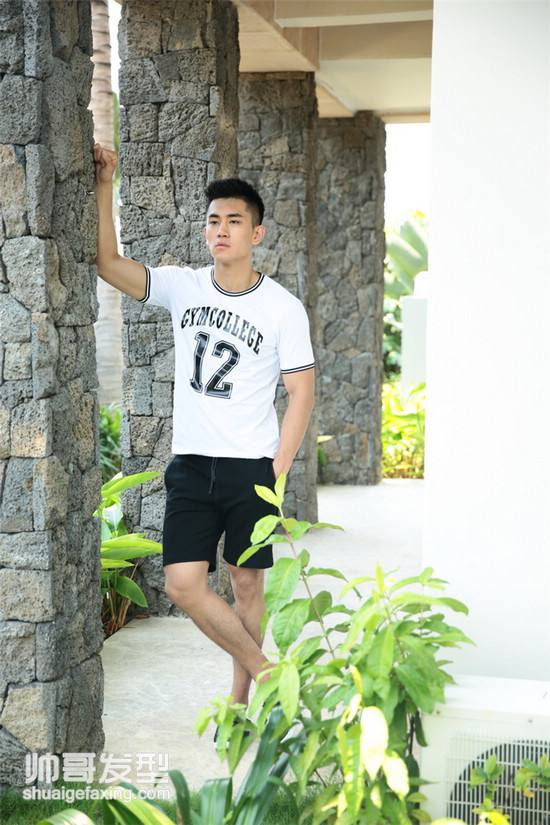person: (46, 137, 365, 680)
